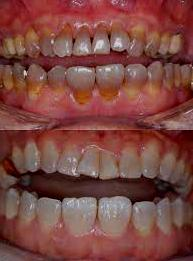Discoloration: (91, 62, 123, 106), (64, 64, 97, 104), (120, 61, 147, 99), (23, 64, 48, 100), (140, 60, 166, 93), (7, 60, 31, 93), (37, 26, 59, 62), (69, 25, 94, 56), (45, 64, 68, 94), (90, 26, 111, 58), (55, 26, 75, 58), (126, 24, 145, 56), (110, 22, 129, 53), (23, 29, 43, 57), (141, 30, 160, 57), (160, 62, 173, 92)
